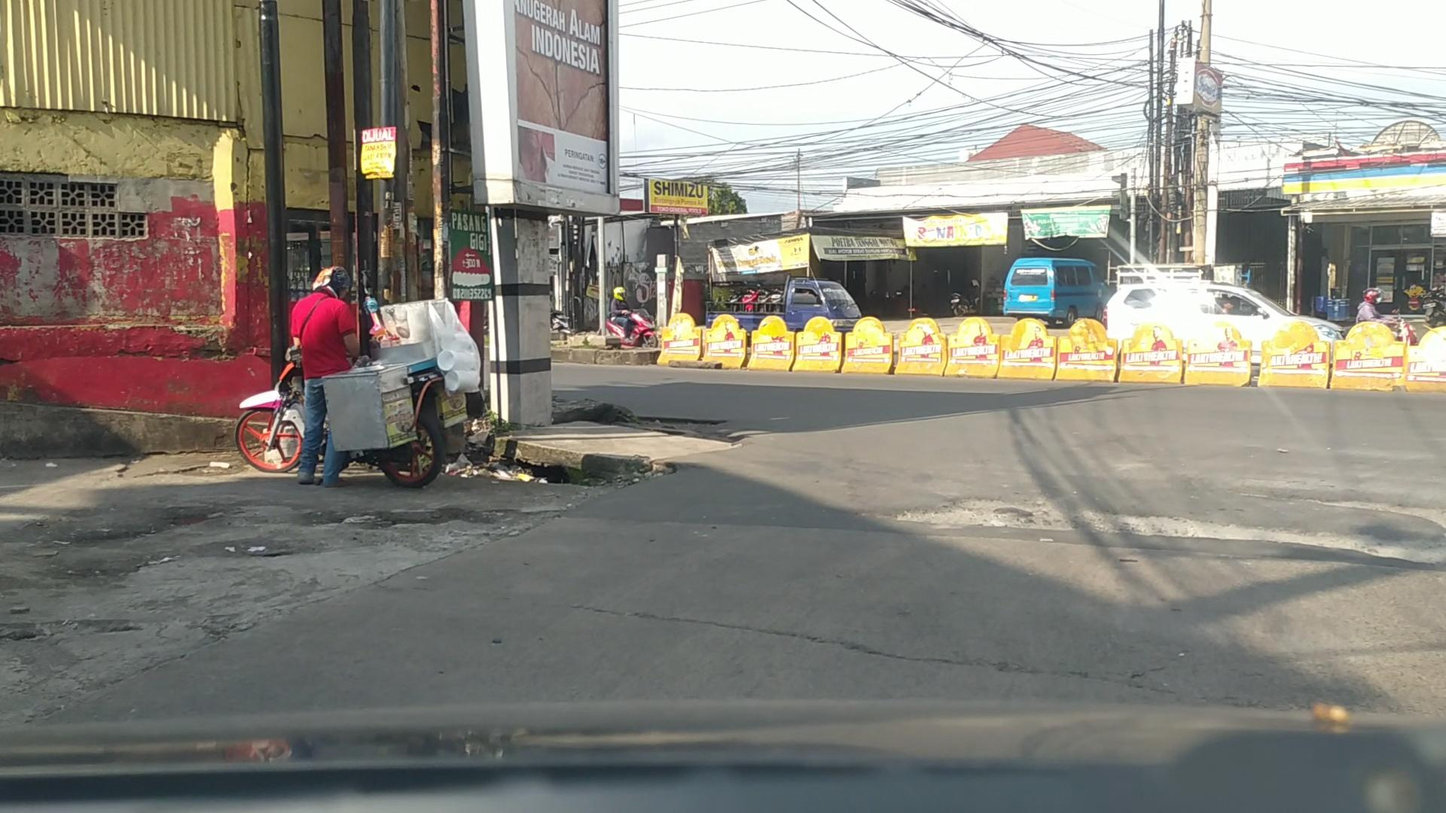pothole: (882, 494, 1441, 569), (1238, 490, 1446, 534)
